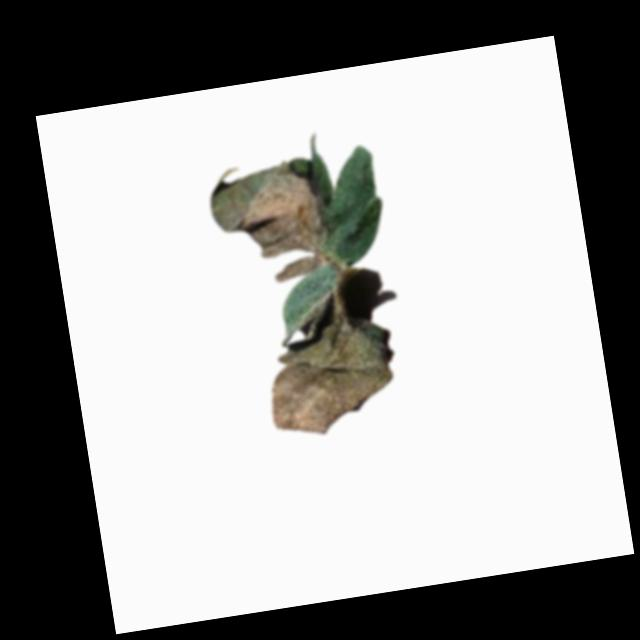Late_blight: (205, 153, 346, 291), (260, 314, 405, 443)
